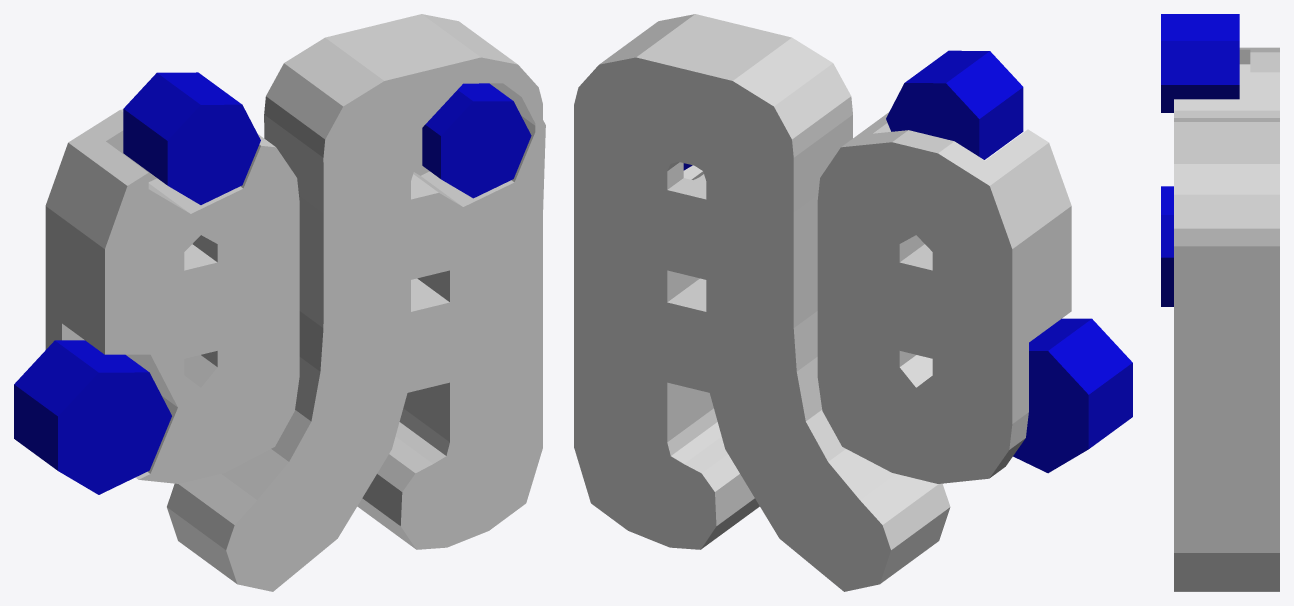
Rendered from Ch_Lite_China_明_01.fbx.
3 views of the same model, side by side, from view 1: azimuth 30°, elevation 25°; view 2: azimuth 150°, elevation 25°; view 3: azimuth 270°, elevation 25° (orthographic). The views are drawn at different scales.
Parts seen in each view (by area): view 1: sphere1; view 2: sphere1; view 3: sphere1.
Boxes of the visible parts, left/top/right/bottom form: sphere1: left=14, top=14, right=545, bottom=591; sphere1: left=574, top=14, right=1132, bottom=591; sphere1: left=1161, top=14, right=1279, bottom=591.
Size of the model in its own units: 0.963 by 0.9512 by 0.2242.
